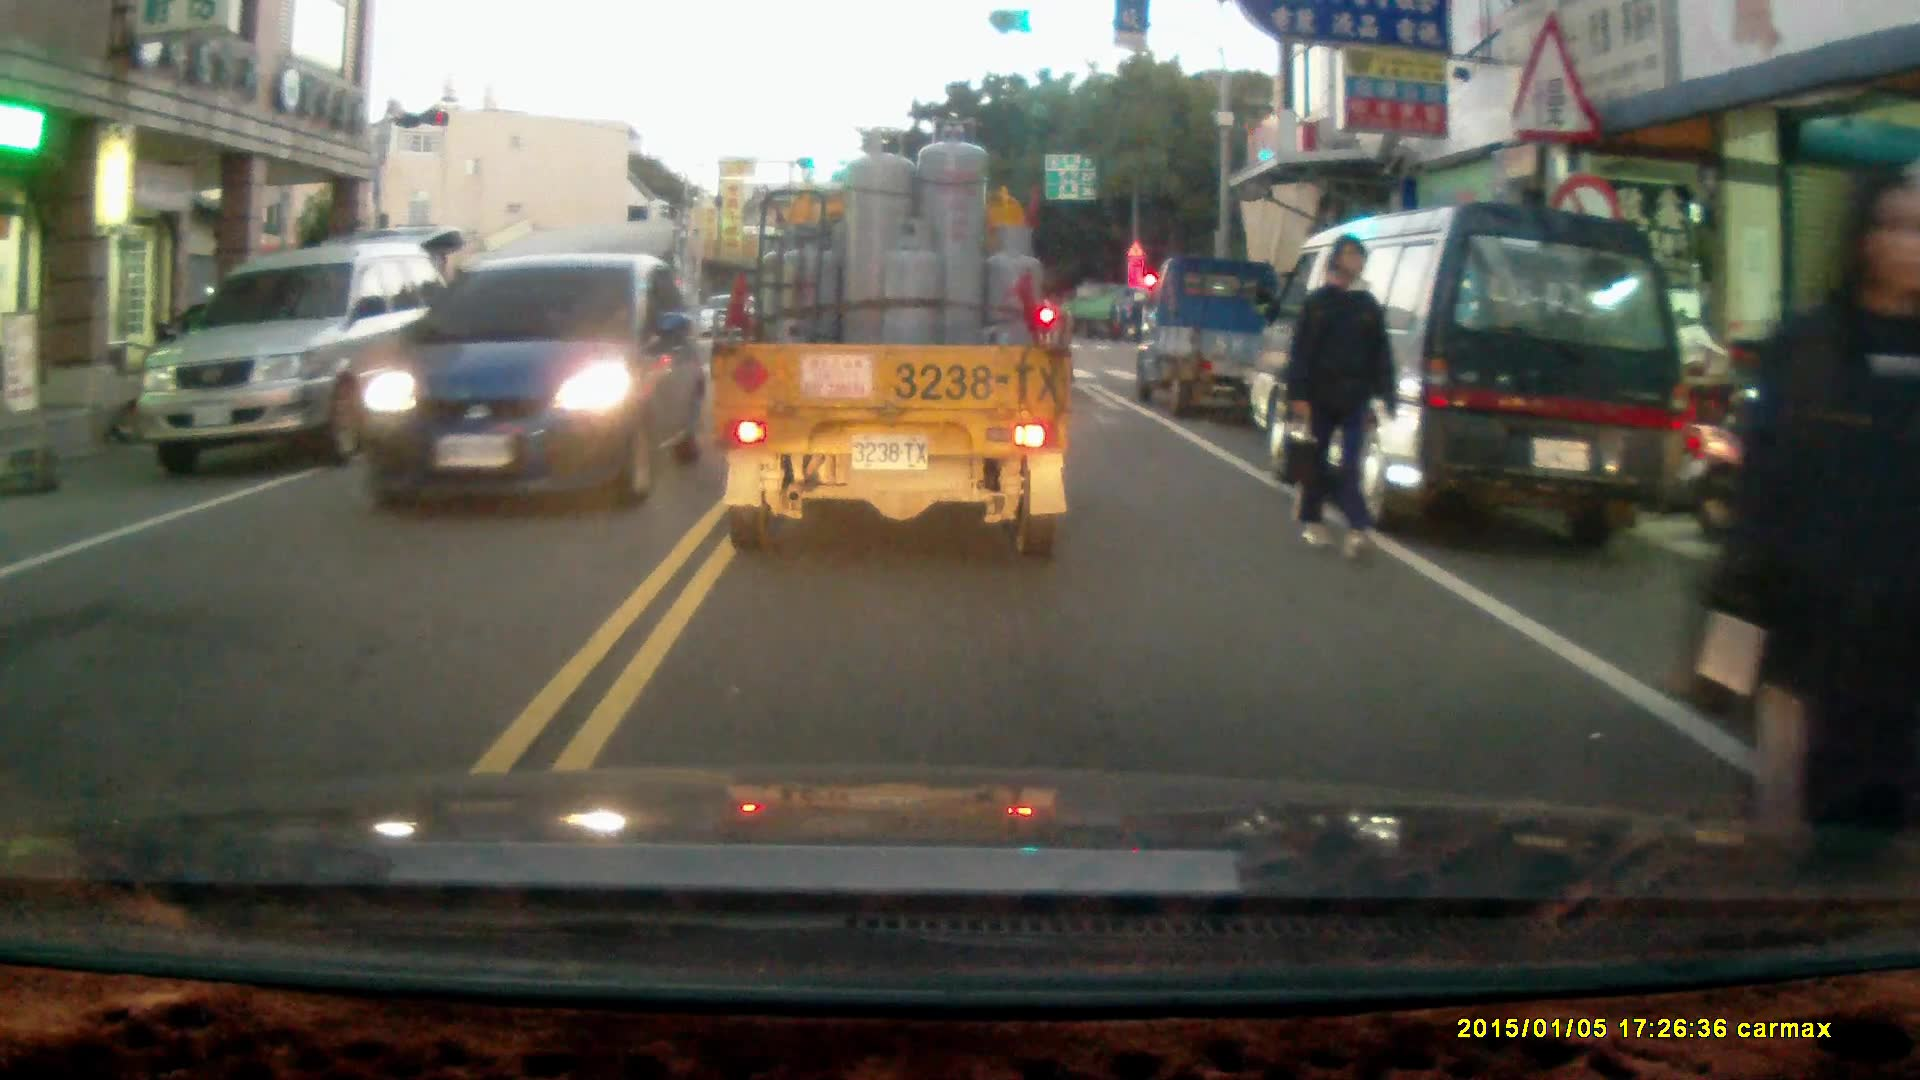pedestrian: (1705, 167, 1920, 901), (1283, 234, 1398, 564)
vehicle: (710, 119, 1075, 548), (1253, 198, 1684, 553), (355, 251, 719, 509), (138, 242, 464, 476), (359, 291, 564, 420), (1124, 247, 1275, 409)
